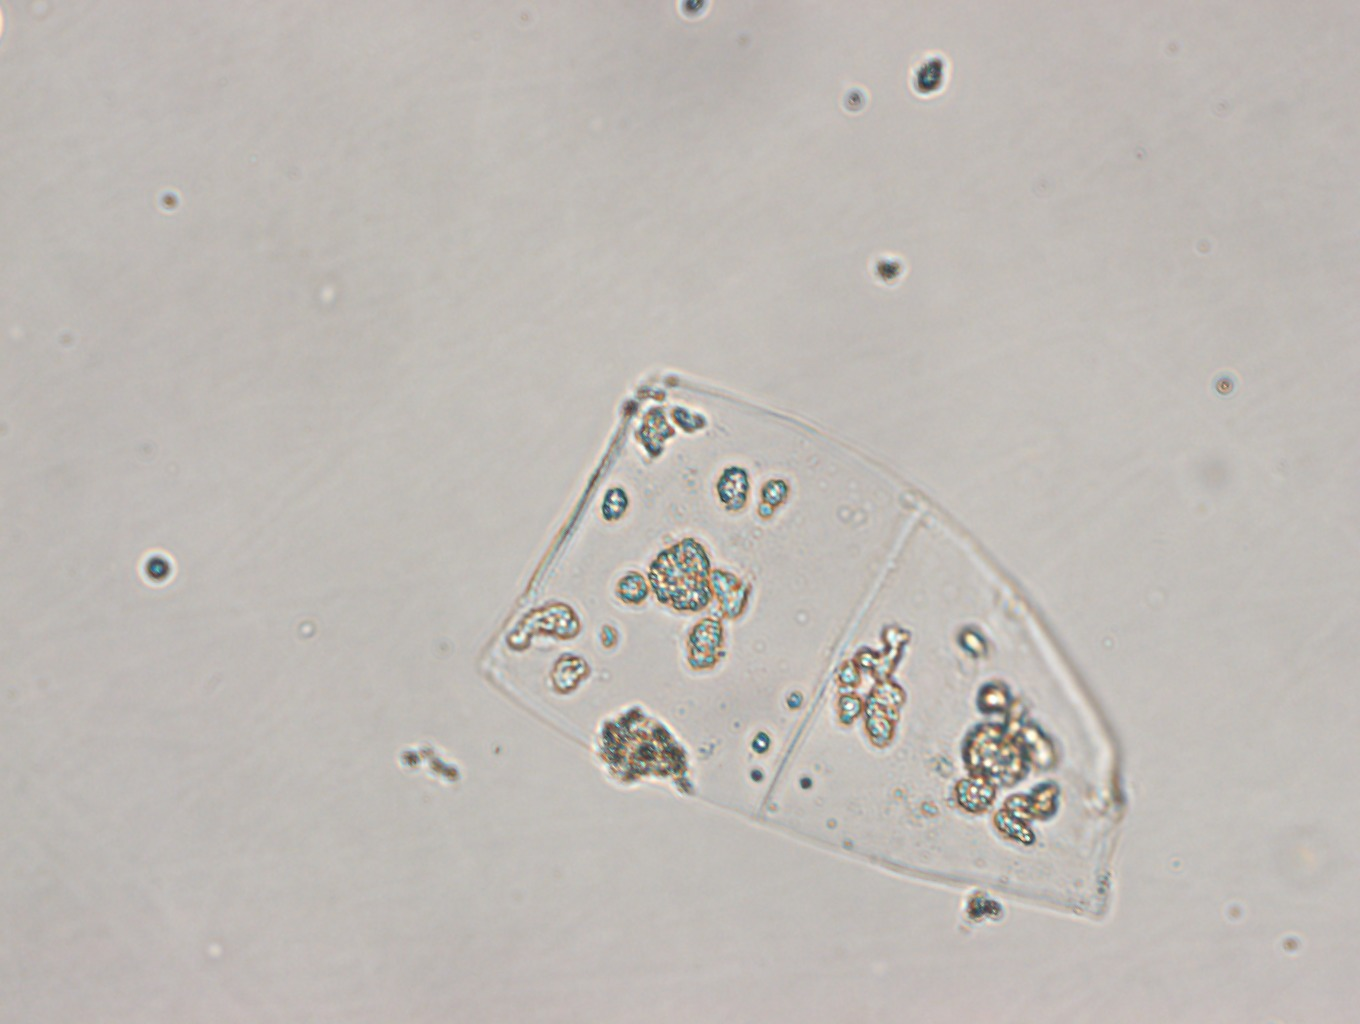helicotheca: (472, 369, 1125, 919)
